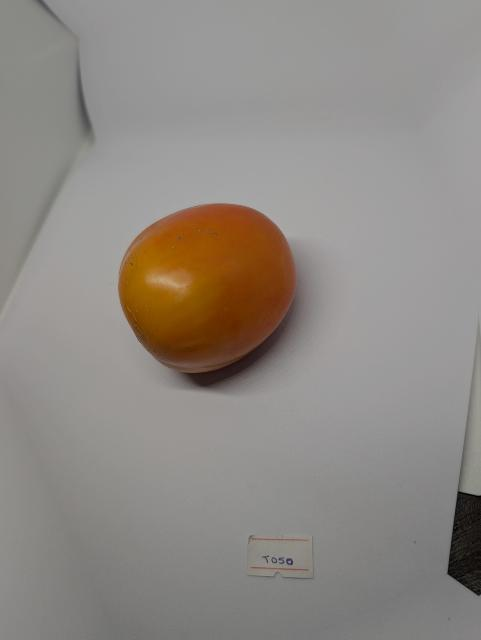turning: (118, 189, 304, 384)
